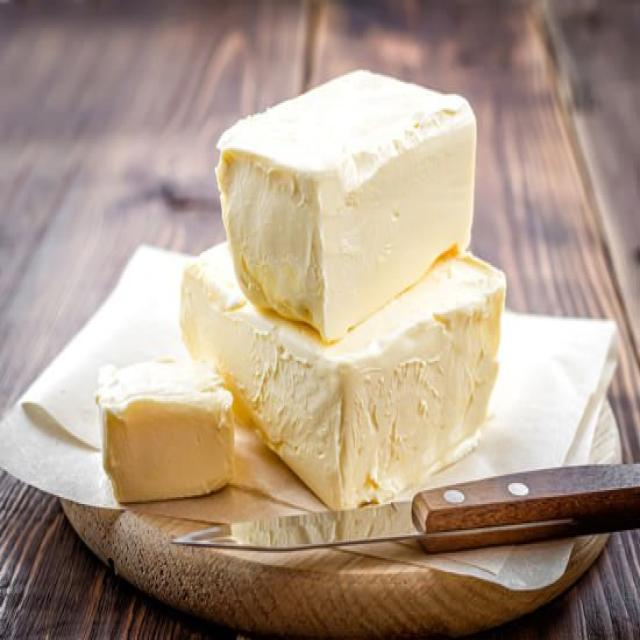Butter: (176, 232, 490, 500), (221, 73, 478, 337), (93, 359, 236, 513)
